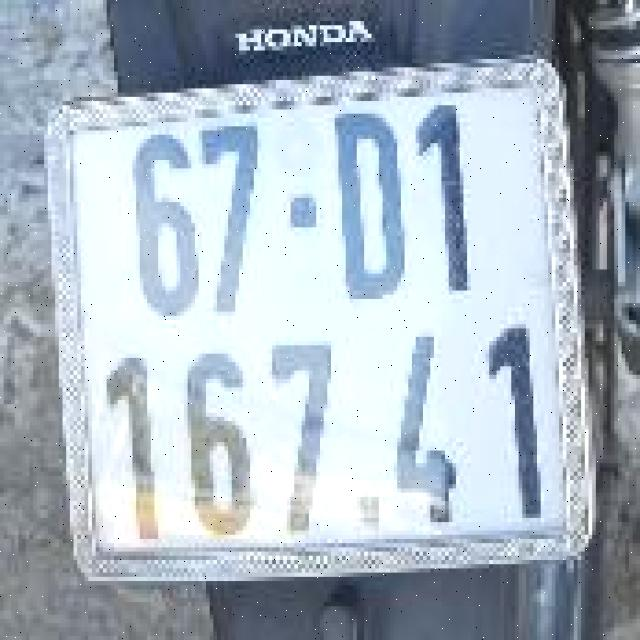1: (478, 311, 555, 525), (94, 345, 172, 544), (410, 99, 477, 304)
4: (371, 318, 465, 525)
6: (122, 127, 211, 325), (176, 344, 261, 541)
7: (191, 118, 278, 322), (263, 329, 347, 539)
D: (325, 108, 418, 311)
